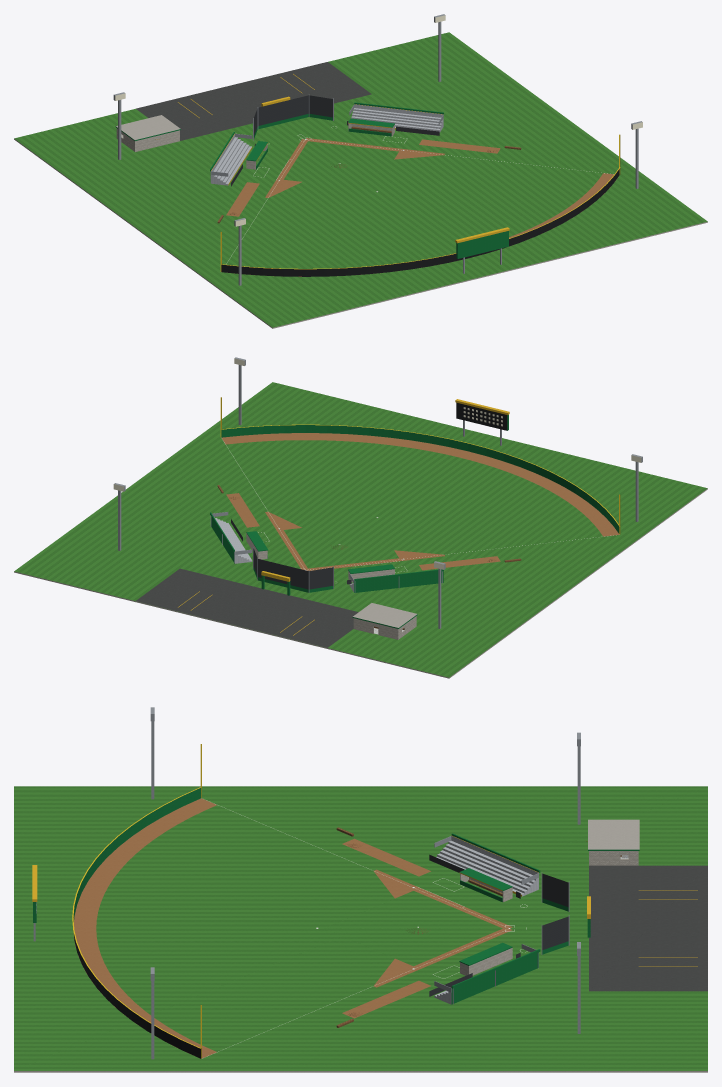
The model's file is ballpark_0.glb.
3 renders of one model, top to bottom at view 1: azimuth 30°, elevation 25°; view 2: azimuth 150°, elevation 25°; view 3: azimuth 270°, elevation 25°, orthographic. The views are drawn at different scales.
Visible parts, largest first — view 1: ballpark_0; view 2: ballpark_0; view 3: ballpark_0.
Boxes of the visible parts, <box> form: ballpark_0: <box>14,14,707,328</box>; ballpark_0: <box>14,357,707,678</box>; ballpark_0: <box>14,707,707,1072</box>.
Size of the model in its own units: 136 by 19.9 by 140.
Materials: 17 (17 with a texture image).
